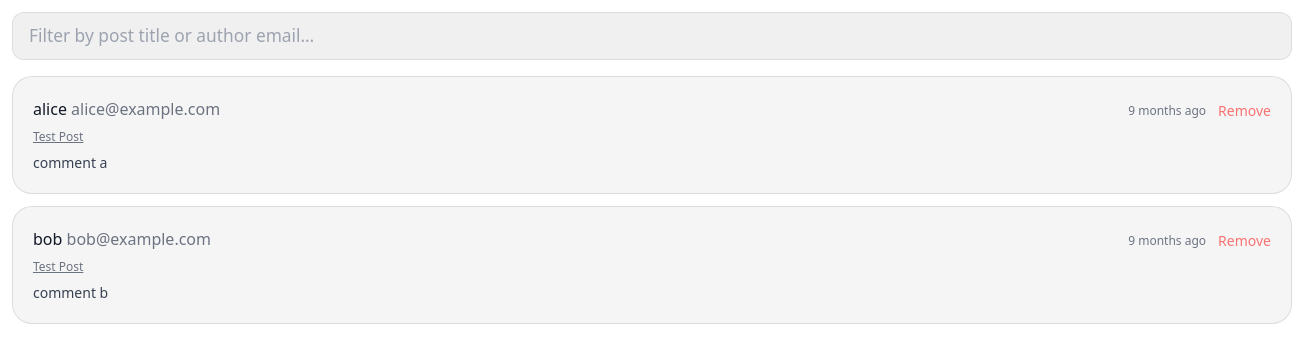
Test: CommentsModerationClient - filter › filters by author email substring
Type "alice" into the field named "Filter comments" at (652, 36), box [12,12,1292,60]
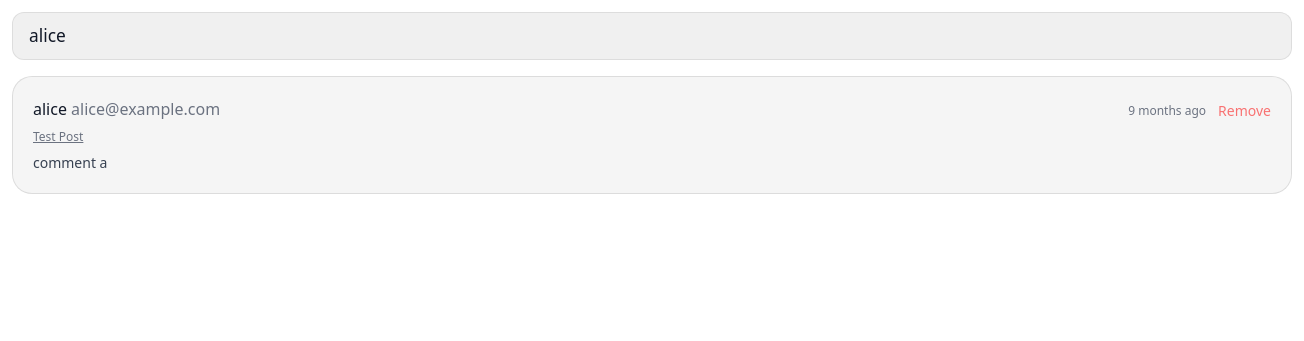
expect the text "comment a" is shown: met, box [33,153,108,172]
expect the text "comment b" is gone: met
